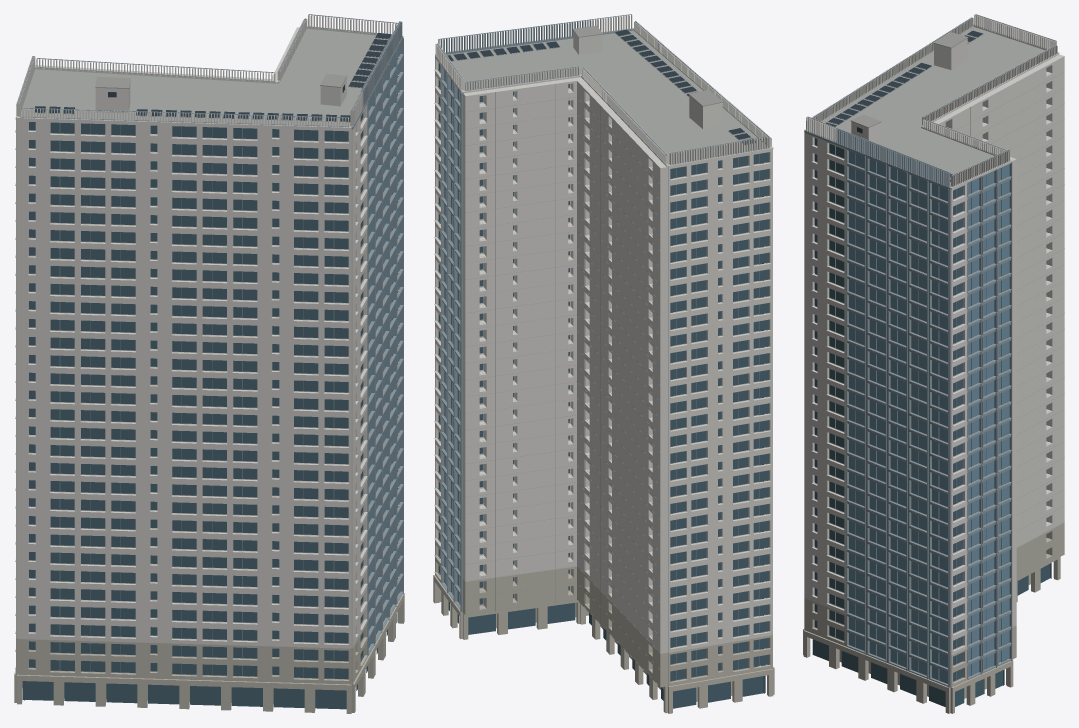
The model's file is bespoke-maple-xi-108.glb.
The picture shows the model from 3 angles, left to right: view 1: azimuth 30°, elevation 25°; view 2: azimuth 150°, elevation 25°; view 3: azimuth 270°, elevation 25°; orthographic projection. The views are drawn at different scales.
Parts seen in each view (by area): view 1: Maple108_numbered_plan_inset_body, Maple108_e0_end_glass, Maple108_e0_end_unequal_sash, Maple108_numbered_plan_roof, Maple108_recessed_stone_lobby, Maple108_e3_dark_glass, Maple108_PV_cells, Maple108_e1_cladding_joint, Maple108_PV_frame; view 2: Maple108_numbered_plan_inset_body, Maple108_e0_end_glass, Maple108_e0_end_unequal_sash, Maple108_recessed_stone_lobby, Maple108_numbered_plan_roof, Maple108_e1_cladding_joint, Maple108_e3_dark_glass, Maple108_PV_cells, Maple108_PV_frame; view 3: Maple108_numbered_plan_inset_body, Maple108_e0_end_unequal_sash, Maple108_e3_dark_glass, Maple108_e0_end_glass, Maple108_numbered_plan_roof, Maple108_recessed_stone_lobby, Maple108_e1_cladding_joint, Maple108_PV_cells.
Boxes of the visible parts, x1,y1,x2,y2 form: Maple108_numbered_plan_inset_body: (15,14,400,679); Maple108_e0_end_glass: (22,58,398,709); Maple108_e0_end_unequal_sash: (17,14,403,678); Maple108_numbered_plan_roof: (19,28,388,126); Maple108_recessed_stone_lobby: (14,556,404,713); Maple108_e3_dark_glass: (368,44,400,648); Maple108_PV_cells: (35,33,391,121); Maple108_e1_cladding_joint: (95,66,396,540); Maple108_PV_frame: (33,33,391,122); Maple108_numbered_plan_inset_body: (434,14,773,680); Maple108_e0_end_glass: (438,63,769,708); Maple108_e0_end_unequal_sash: (437,14,770,680); Maple108_recessed_stone_lobby: (433,542,774,713); Maple108_numbered_plan_roof: (446,30,768,164); Maple108_e1_cladding_joint: (465,25,722,683); Maple108_e3_dark_glass: (438,69,460,604); Maple108_PV_cells: (447,29,755,144); Maple108_PV_frame: (450,30,755,145); Maple108_numbered_plan_inset_body: (804,14,1064,667); Maple108_e0_end_unequal_sash: (804,14,1056,687); Maple108_e3_dark_glass: (849,151,1009,683); Maple108_e0_end_glass: (812,138,1051,706); Maple108_numbered_plan_roof: (822,27,1045,186); Maple108_recessed_stone_lobby: (803,522,1064,713); Maple108_e1_cladding_joint: (847,32,1064,685); Maple108_PV_cells: (826,30,982,181).
Bounding box in the file's own units: 65.79 × 102 × 44.18.
